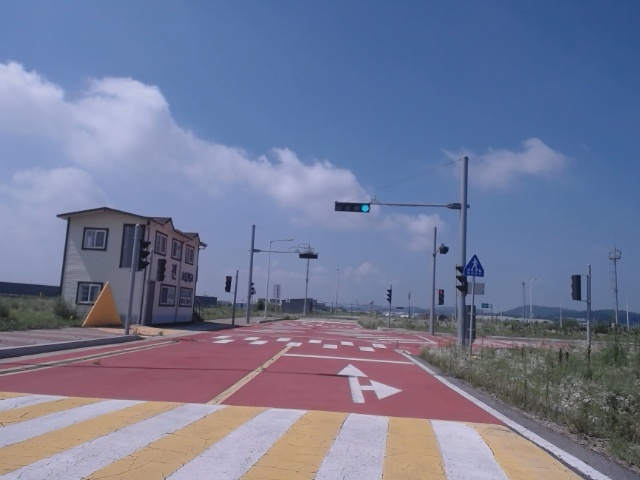straight_green_4: (334, 203, 371, 213)
